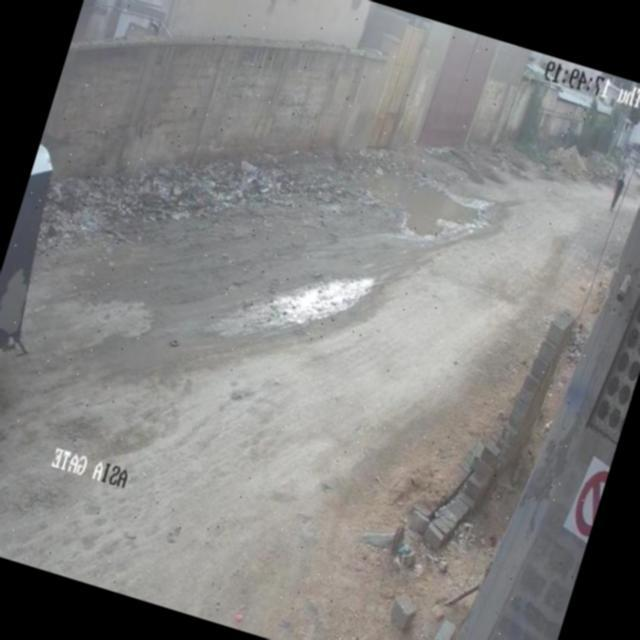person: (603, 164, 632, 212)
